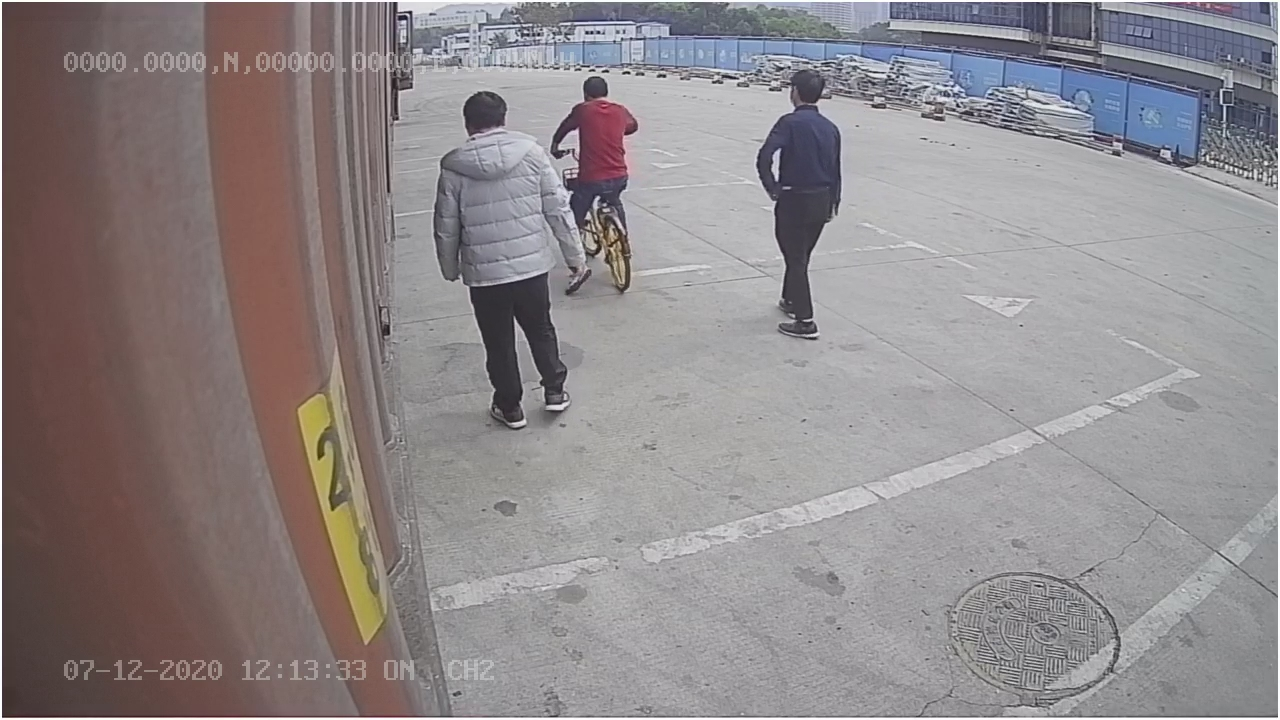person: (752, 65, 847, 339)
